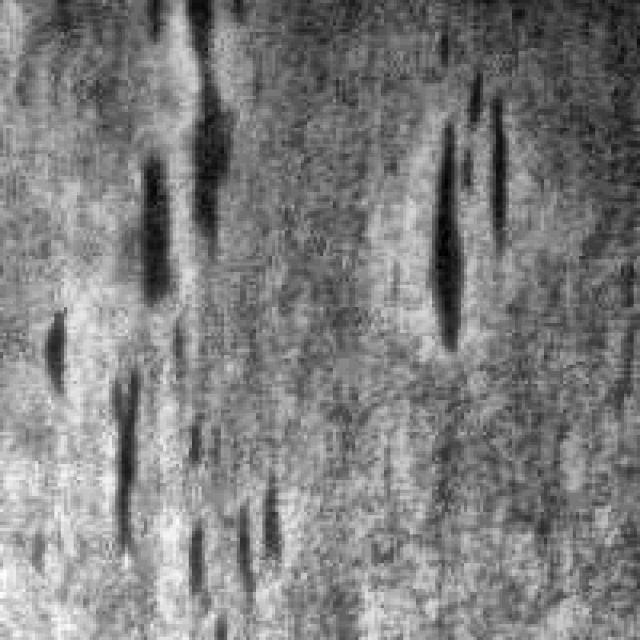Patches: (410, 58, 516, 362), (166, 0, 243, 262), (170, 468, 292, 614), (92, 362, 164, 560), (106, 144, 180, 307), (26, 298, 76, 403)
